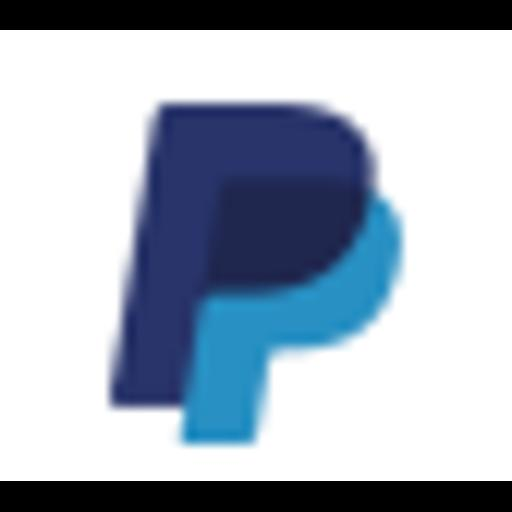PayPal: (0, 30, 512, 481)
